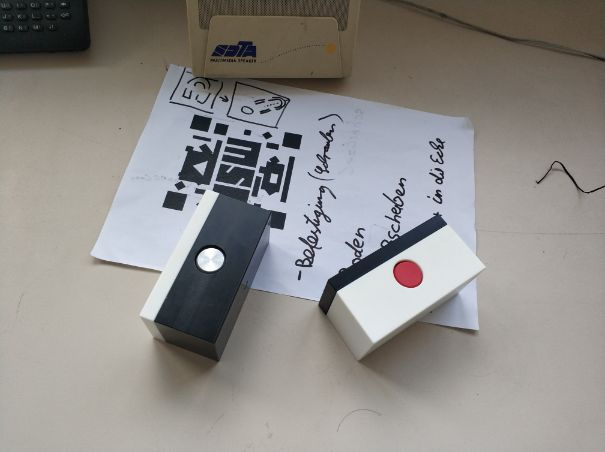black+white+red: (317, 212, 489, 364)
white+black+silver: (137, 188, 273, 364)
